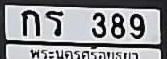3: (91, 11, 105, 37)
8: (110, 12, 124, 38)
9: (129, 13, 144, 38)
A01: (21, 9, 39, 35)
A35: (45, 10, 63, 35)
AYA: (26, 45, 142, 59)
